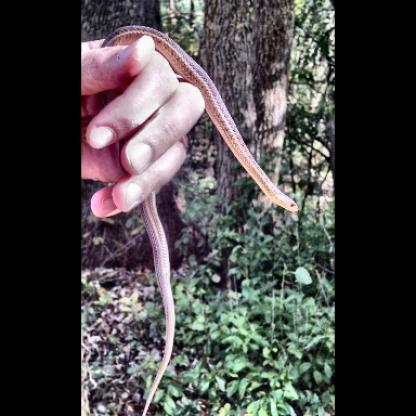Snake: (107, 14, 322, 220), (252, 177, 309, 212)
